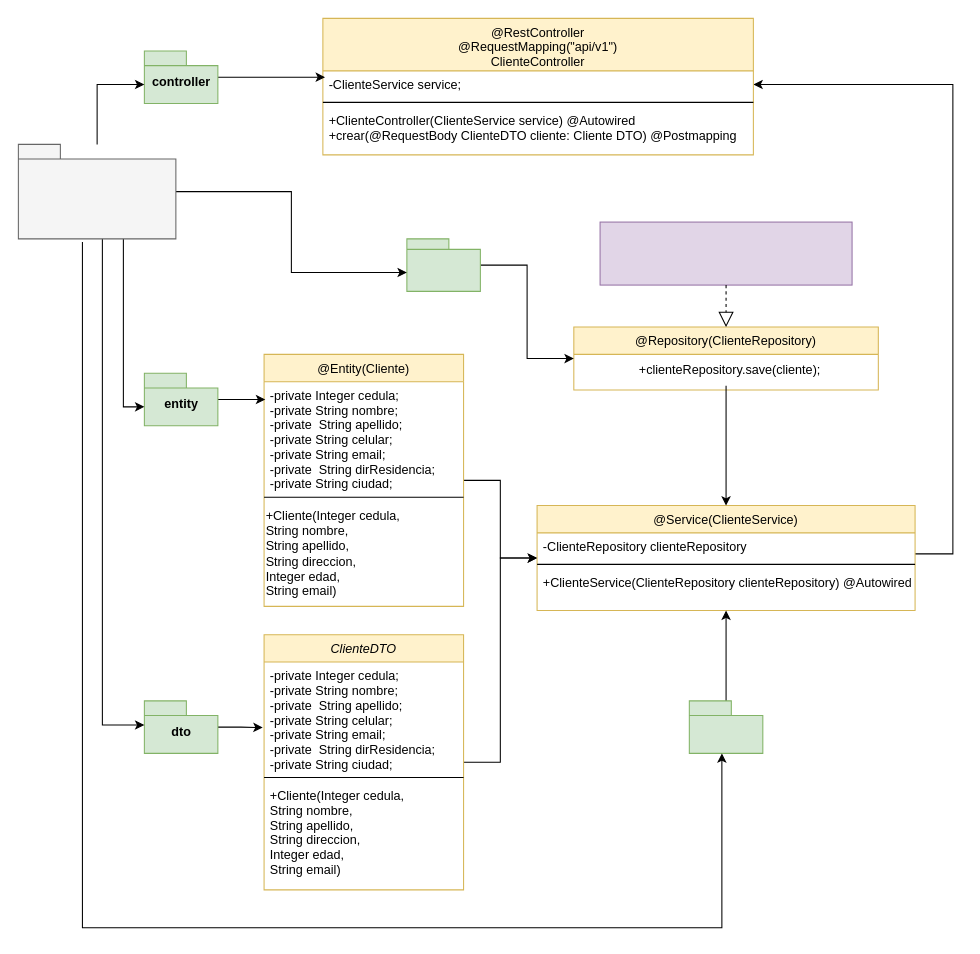
This 980x954 diagram has some shape labels left out. Each missing label, with the centre of its shape:
<<Interface>> JpaRepository<Cliente, Integer>: the point at 725,253
repository: the point at 443,264
service: the point at 725,726
workshopreservas: the point at 96,191
